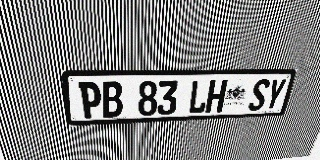3: (157, 80, 178, 115)
8: (138, 81, 158, 116)
B: (101, 81, 123, 118)
H: (205, 80, 228, 113)
L: (188, 80, 210, 114)
P: (78, 82, 102, 119)
S: (247, 79, 271, 111)
Y: (263, 79, 287, 110)
